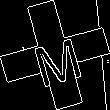M_N: (26, 25, 84, 85)
